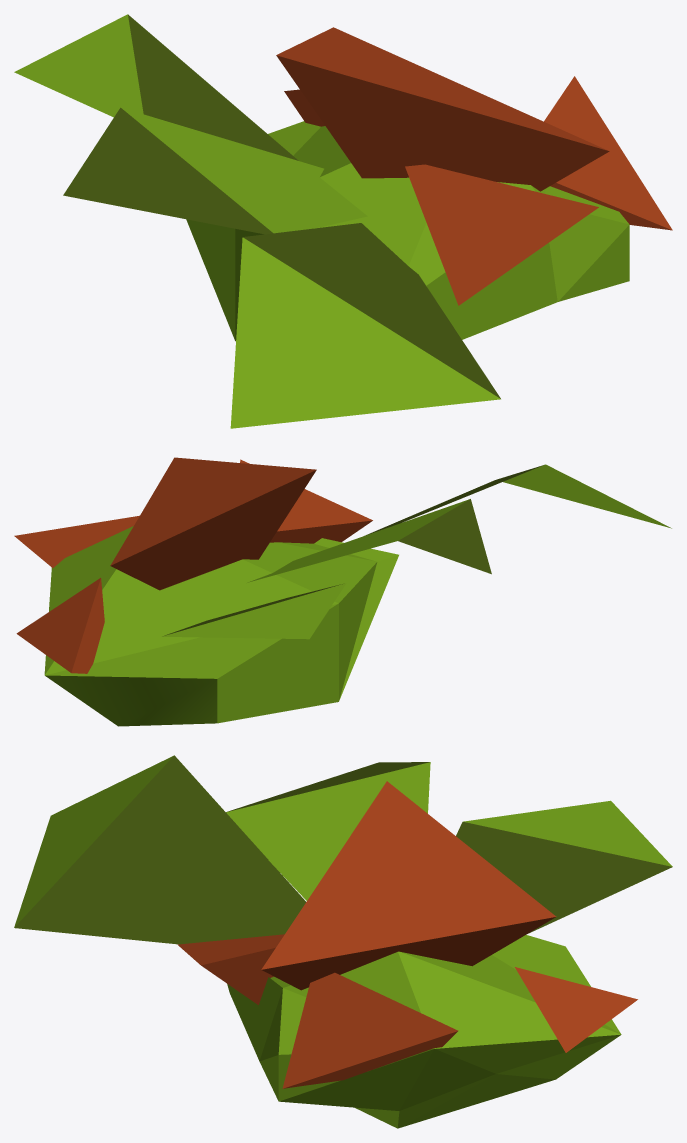
File: Flower_M1_7.fbx
The picture shows the model from 3 angles, top to bottom: view 1: azimuth 30°, elevation 25°; view 2: azimuth 150°, elevation 25°; view 3: azimuth 270°, elevation 25°; orthographic projection. The views are drawn at different scales.
Visible parts, largest first — view 1: Flower_M1_7; view 2: Flower_M1_7; view 3: Flower_M1_7.
Part boxes in pixels (box(x1,y1,x2,y2)): Flower_M1_7: box(14, 14, 672, 428); Flower_M1_7: box(14, 457, 671, 726); Flower_M1_7: box(14, 755, 672, 1128).
Size of the model in its own units: 16.67 by 8.67 by 19.5.
